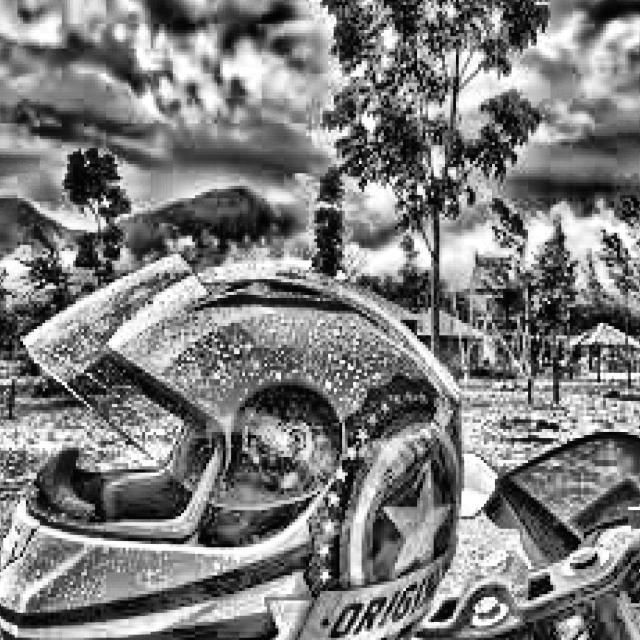Helmet: (0, 252, 467, 640)
